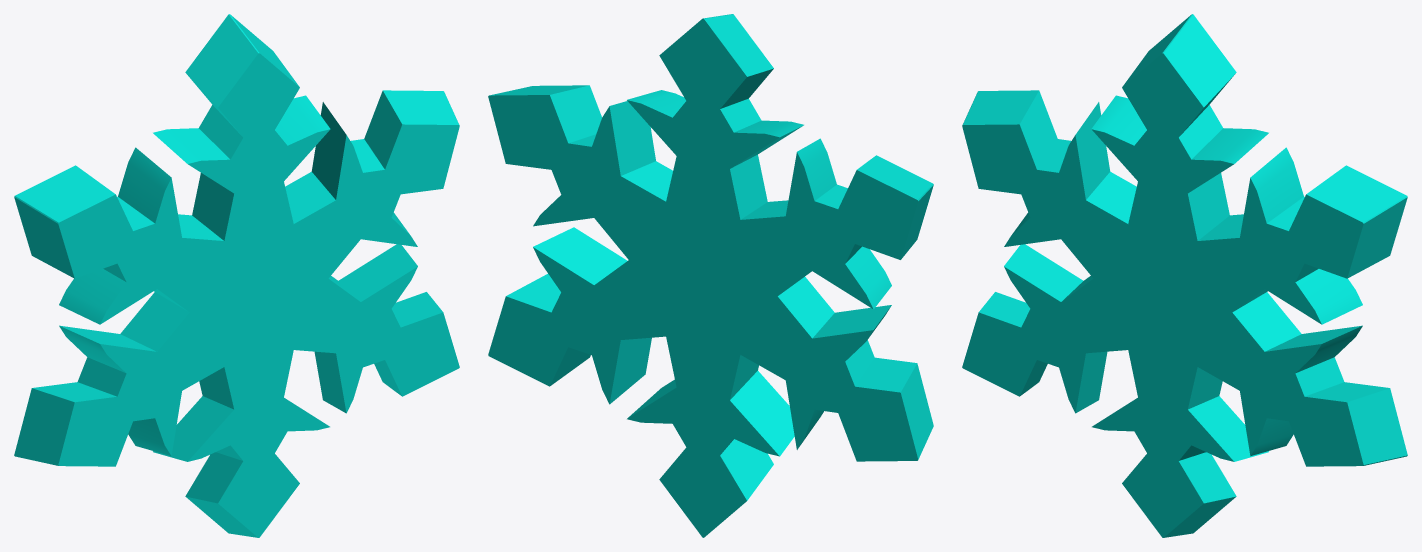
Rendered from mesh_slowflake.fbx.
The picture shows the model from 3 angles, left to right: view 1: azimuth 30°, elevation 25°; view 2: azimuth 150°, elevation 25°; view 3: azimuth 330°, elevation 25°; orthographic projection.
Parts seen in each view (by area): view 1: pPlane32; view 2: pPlane32; view 3: pPlane32.
Part boxes in pixels (x1=…): pPlane32: x1=14, y1=14, x2=459, y2=537; pPlane32: x1=488, y1=14, x2=933, y2=537; pPlane32: x1=962, y1=14, x2=1407, y2=537.
Bounding box in the file's own units: 0.0289 × 0.0333 × 0.00347.
